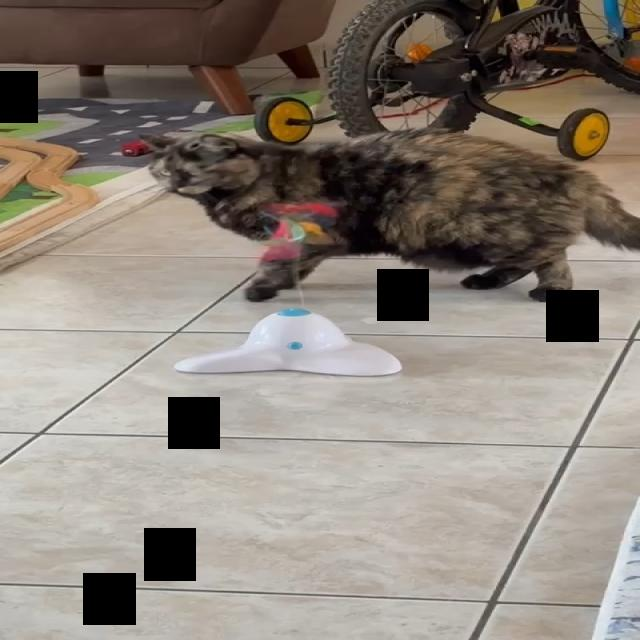authorized: (137, 125, 639, 302)
